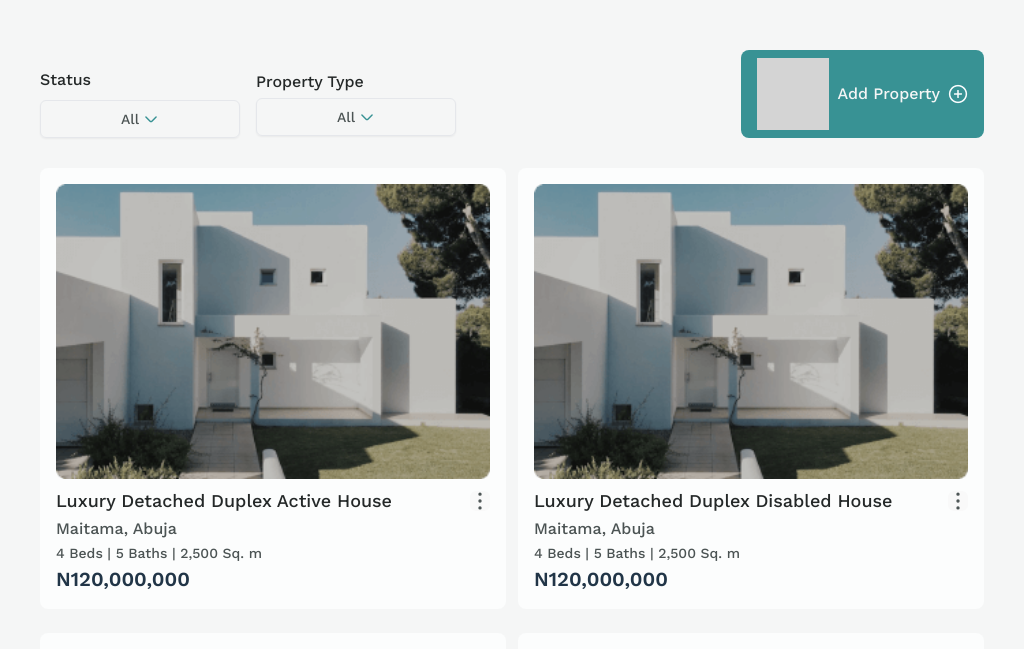
Test: PropertiesFilterDropDown behavior › should return listings that are either 'houses', 'lands', or 'commercial' that are either 'active' or 'disabled' when status is not 'all' and property type is n
Click the button with test id "properties-filter-dropdown-trigger" at (140, 119), box [40,100,240,138]
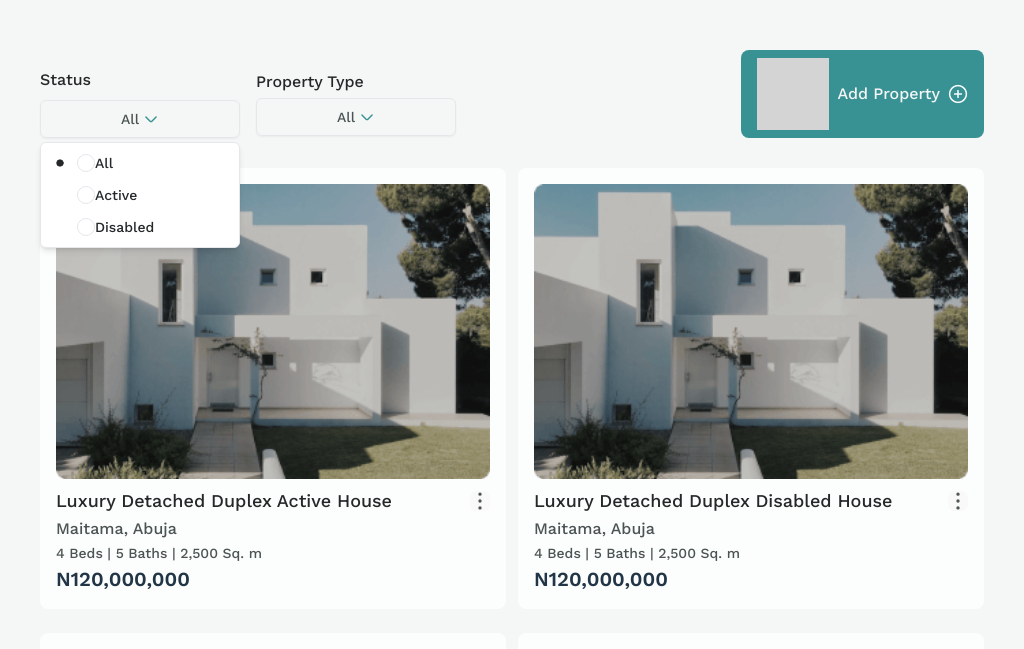
Press Arrowdown Arrowdown Enter
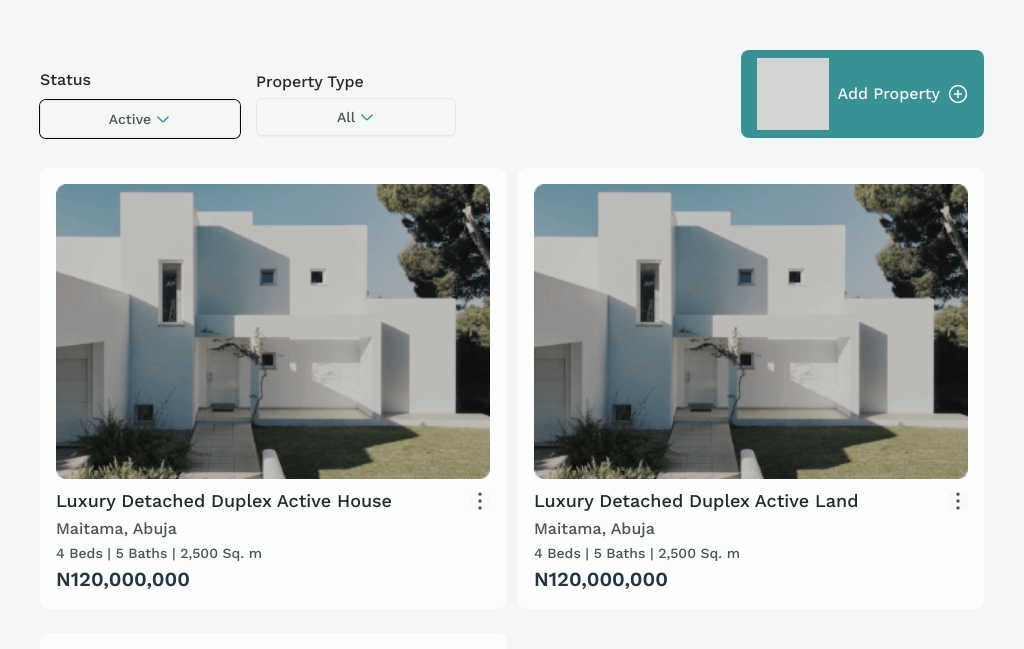
Click the button with test id "properties-filter-dropdown-trigger" at (356, 117), box [256,98,456,136]
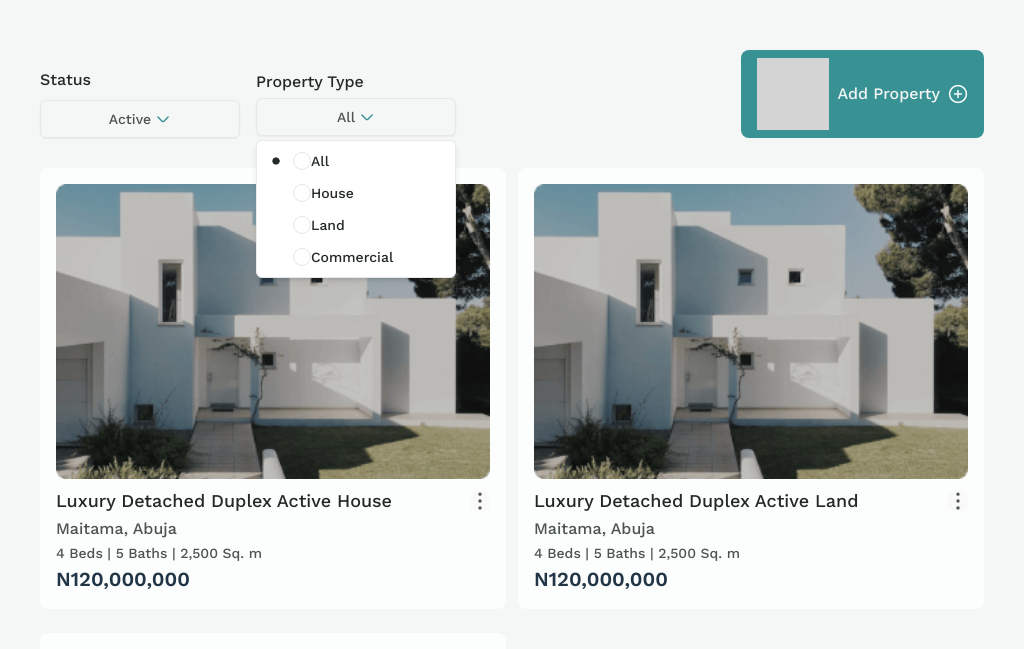
Press Arrowdown Arrowdown Enter
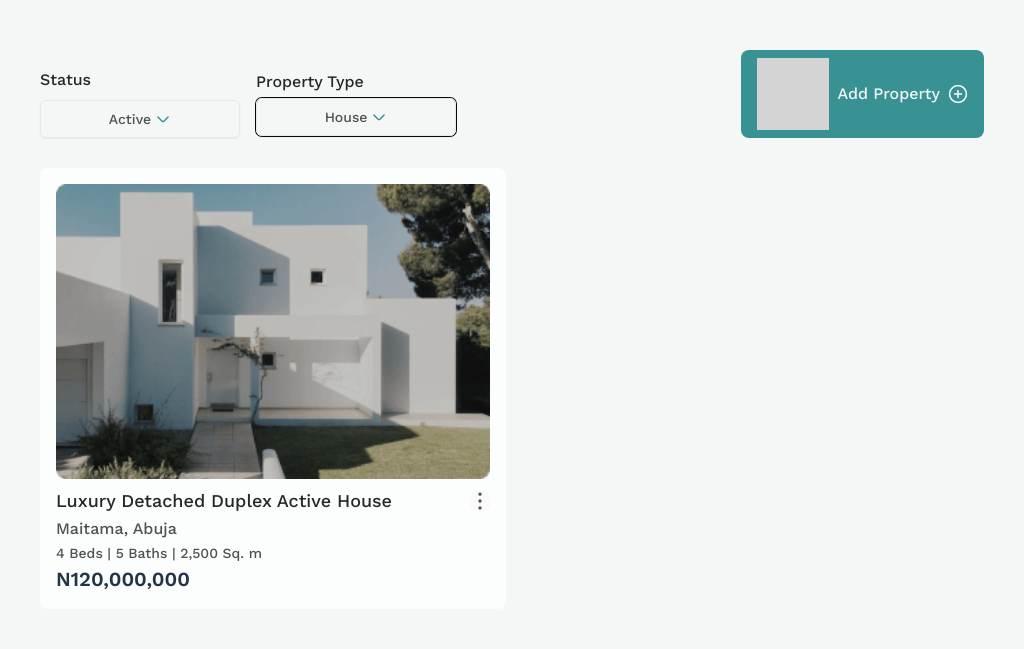
Expected: the heading with test id "property-listing-card-title" does not show "disabled", [56,487,392,515]
Expected: the button with test id "properties-filter-dropdown-trigger" reads "active", [40,100,240,138]
Expected: the button with test id "properties-filter-dropdown-trigger" reads "house", [256,98,456,136]
